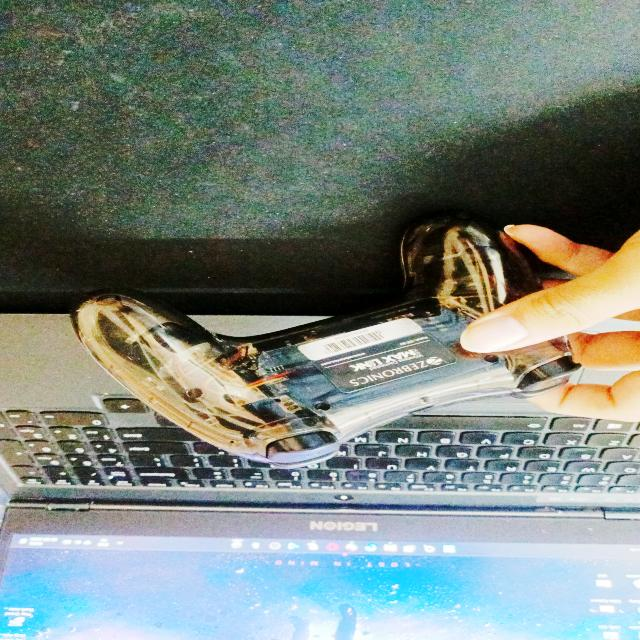gamepad: (69, 212, 587, 468)
